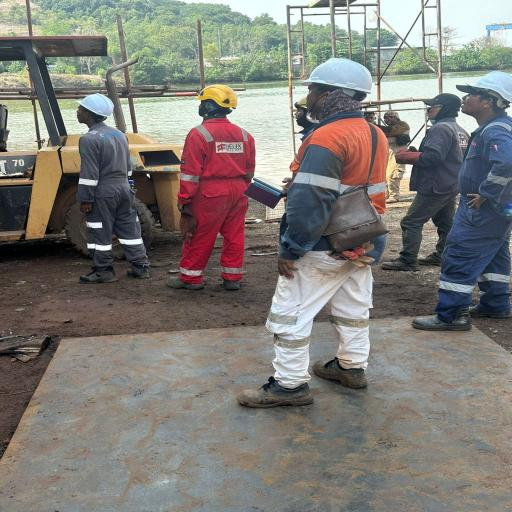safety_shoe: (231, 377, 314, 408), (313, 354, 370, 392), (411, 310, 472, 333), (465, 303, 512, 322), (75, 265, 116, 284), (376, 259, 424, 273), (166, 275, 202, 293), (216, 272, 246, 292), (123, 264, 149, 282), (419, 251, 444, 267)
